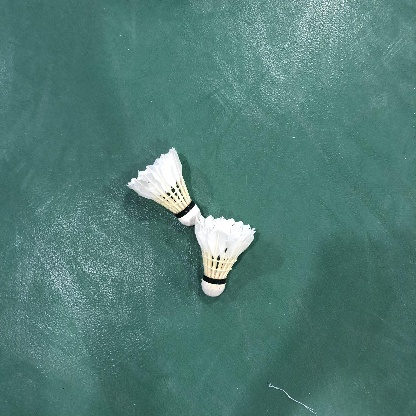ball_single: (126, 147, 201, 226), (194, 215, 256, 297)
